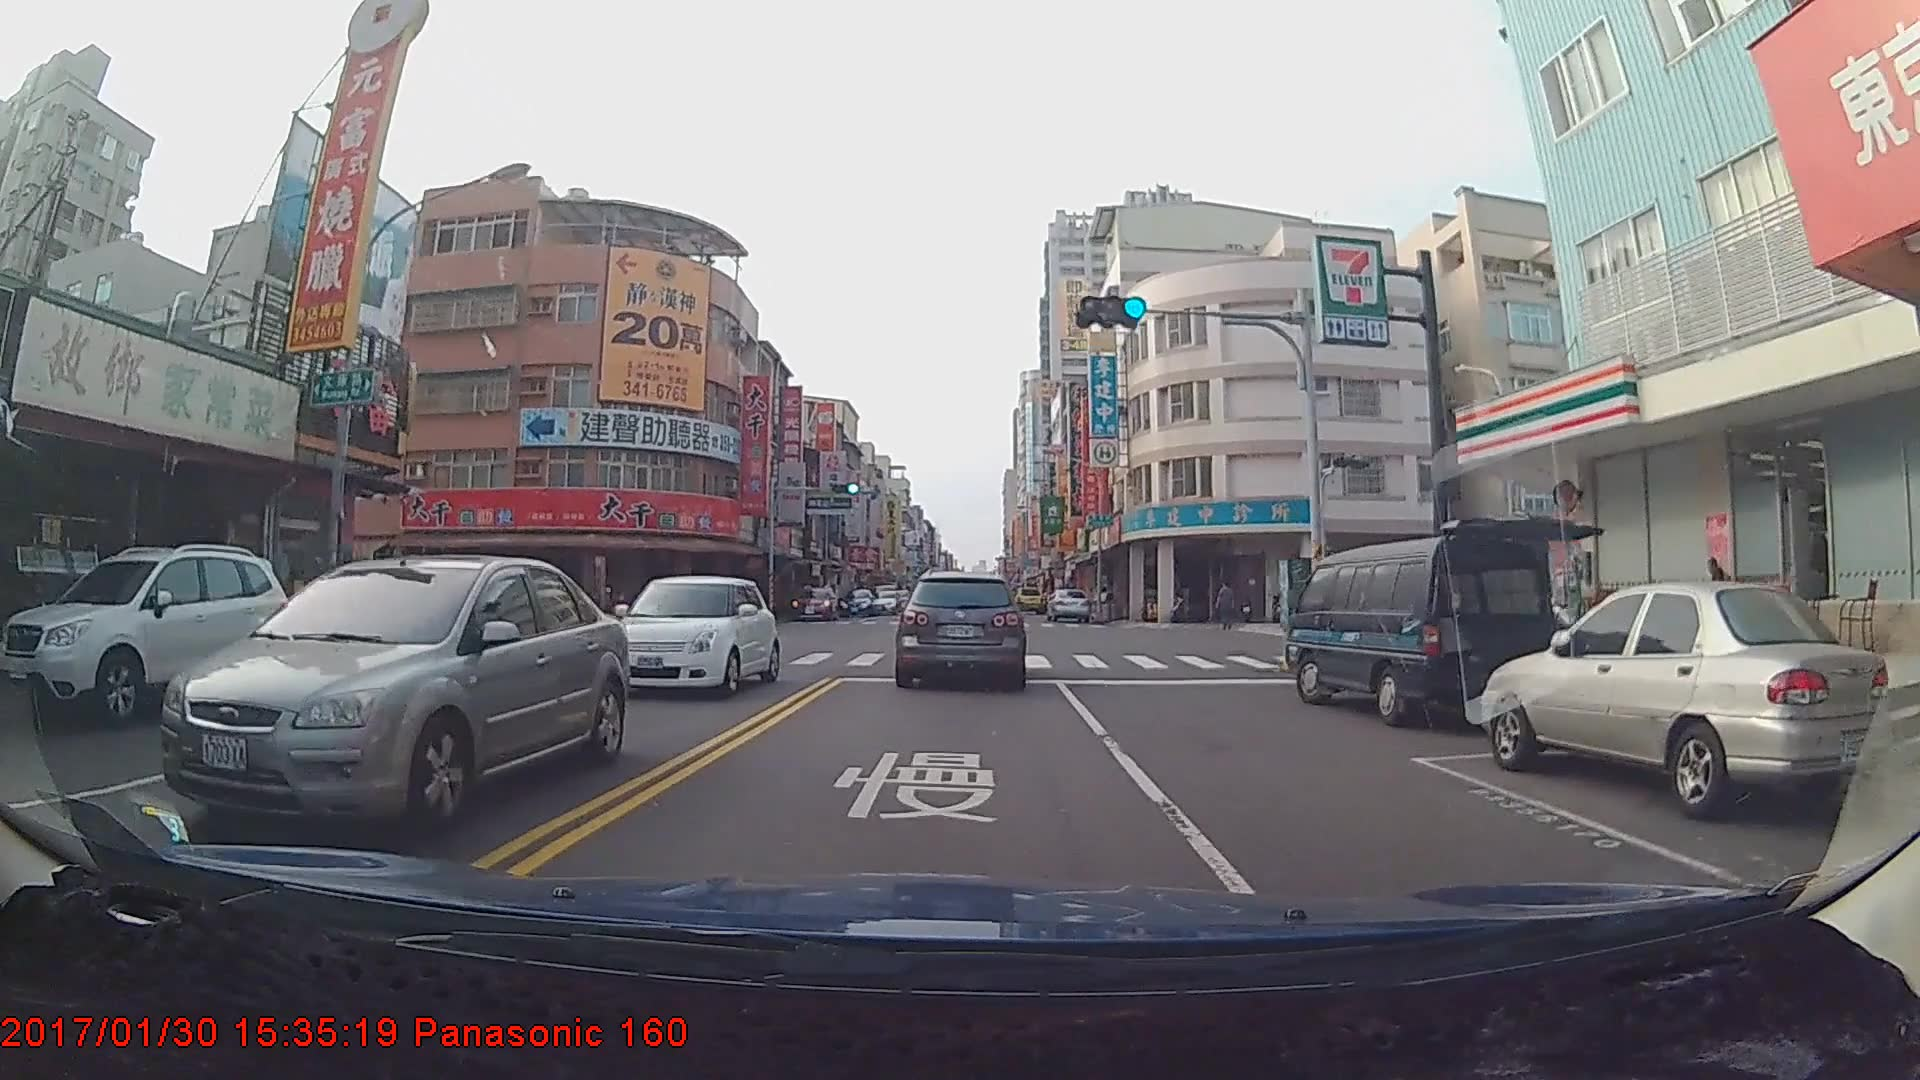pedestrian: (1219, 584, 1240, 636)
vehicle: (157, 552, 629, 836), (1483, 579, 1892, 821), (0, 541, 297, 729), (1287, 529, 1563, 729), (596, 572, 779, 700), (896, 570, 1027, 688), (1045, 587, 1094, 624), (790, 584, 837, 619), (838, 589, 875, 616), (1014, 585, 1045, 611)
